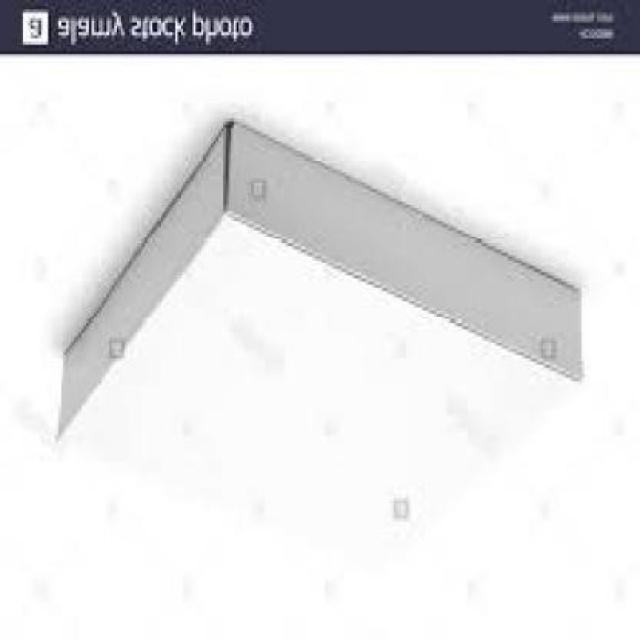CARDBOARD: (56, 125, 582, 560)
